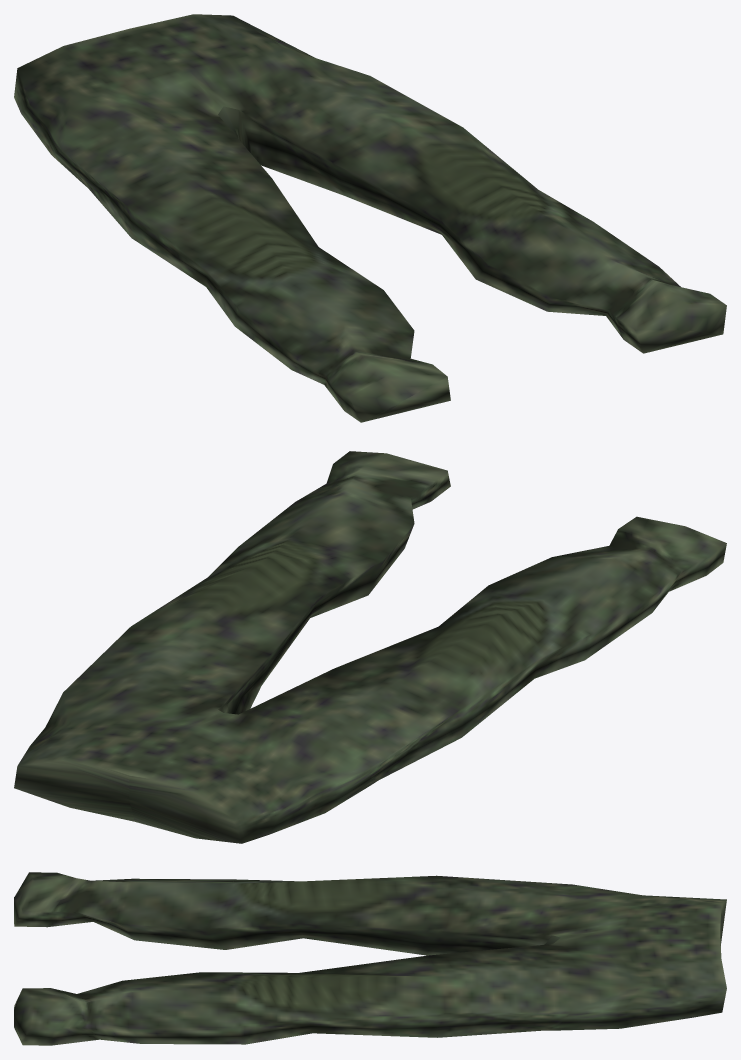
The model's file is ServiceOutfitPantsGround.fbx.
The picture shows the model from 3 angles, top to bottom: view 1: azimuth 30°, elevation 25°; view 2: azimuth 150°, elevation 25°; view 3: azimuth 270°, elevation 25°; orthographic projection. The views are drawn at different scales.
Visible parts, largest first — view 1: ServiceOutfitPantsGround; view 2: ServiceOutfitPantsGround; view 3: ServiceOutfitPantsGround.
Part boxes in pixels (x1=…): ServiceOutfitPantsGround: x1=14, y1=14, x2=726, y2=422; ServiceOutfitPantsGround: x1=14, y1=451, x2=726, y2=843; ServiceOutfitPantsGround: x1=14, y1=872, x2=726, y2=1045.
Size of the model in its own units: 0.2676 by 0.0419 by 0.5185.
